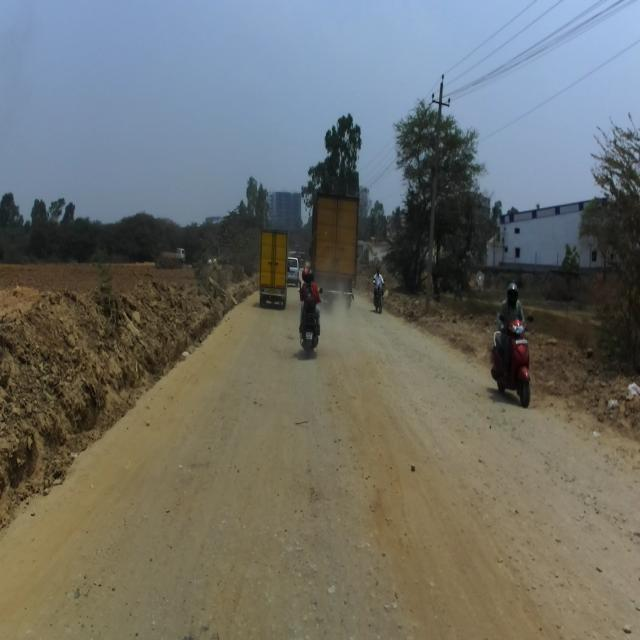motorcycle ahead at: (489, 316, 537, 409)
truck ahead at: (312, 186, 360, 307), (258, 222, 290, 310)
